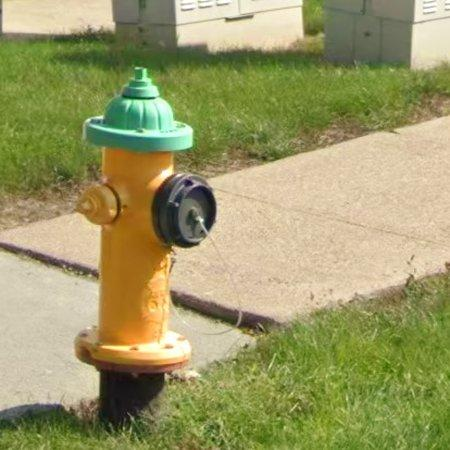a fire hydrant: (75, 67, 217, 423)
